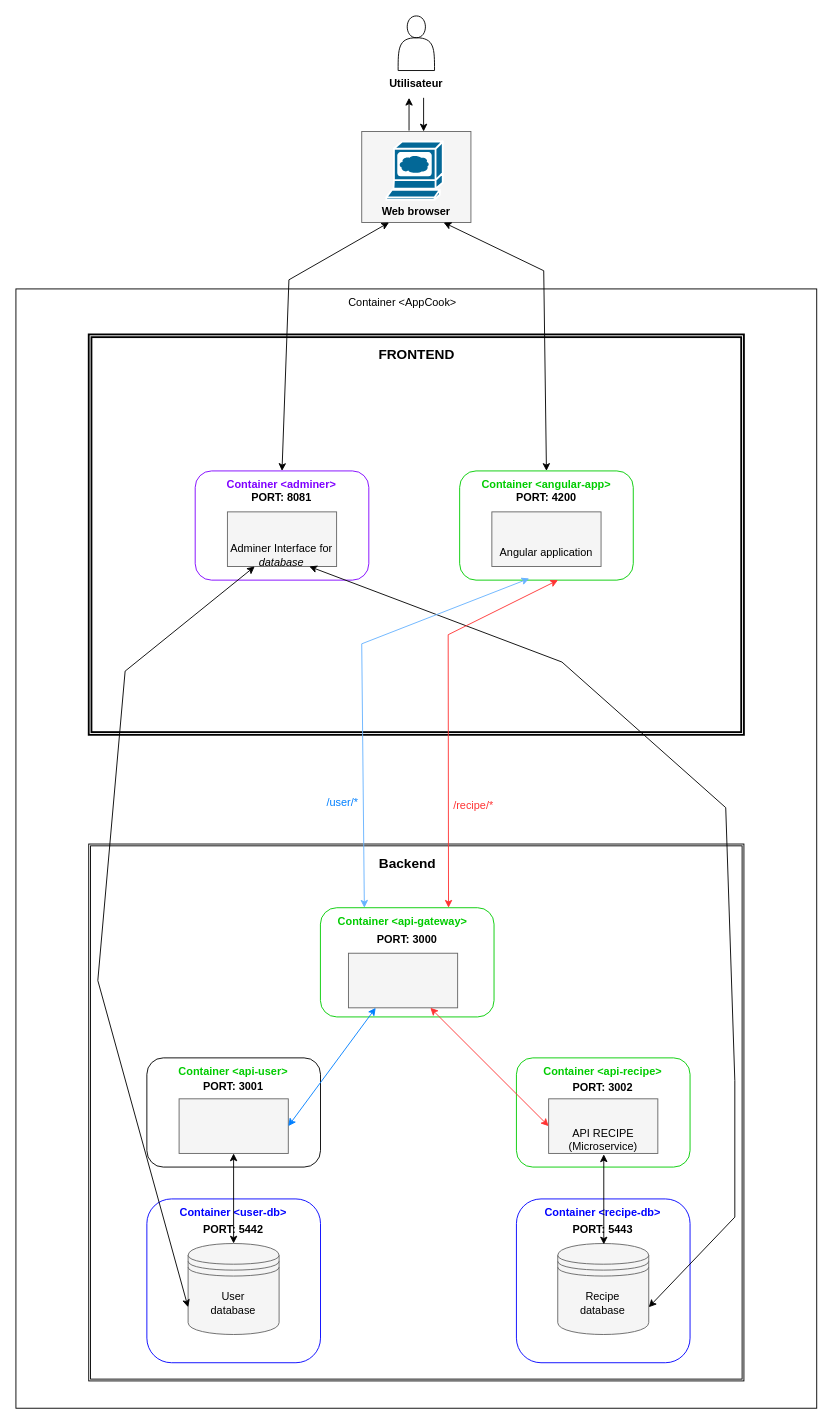
This 833x1424 diagram has some shape labels left out. Here are the shapes that lost their labels. From the top down, the centre of each, then its label:
point (403, 980): Gateway (proxy)
point (233, 1125): API USER (Microservice)
